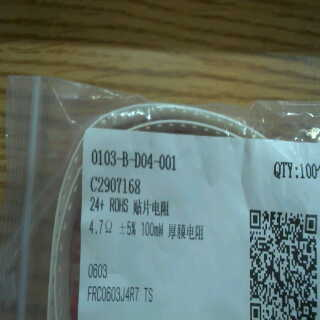4.7R: (84, 214, 116, 244)
